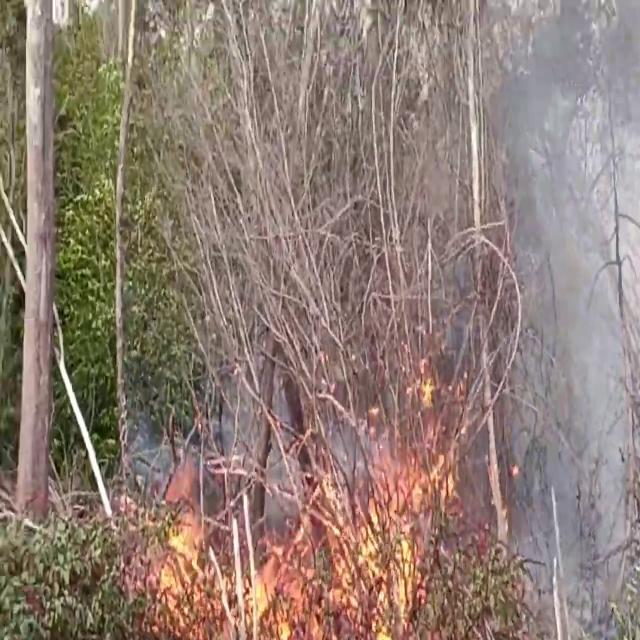Fire: (126, 432, 474, 640)
Smoke: (482, 3, 640, 588)
